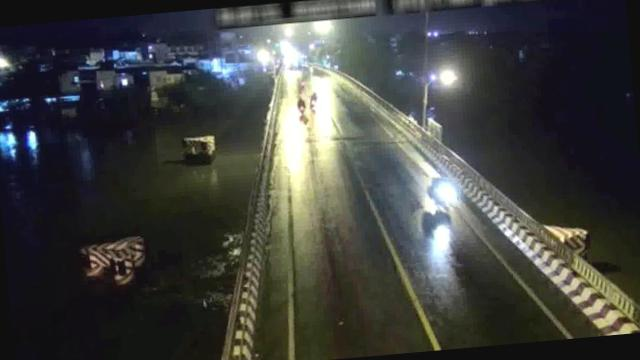Bike: (424, 176, 462, 209), (295, 94, 308, 116), (307, 90, 319, 110)
